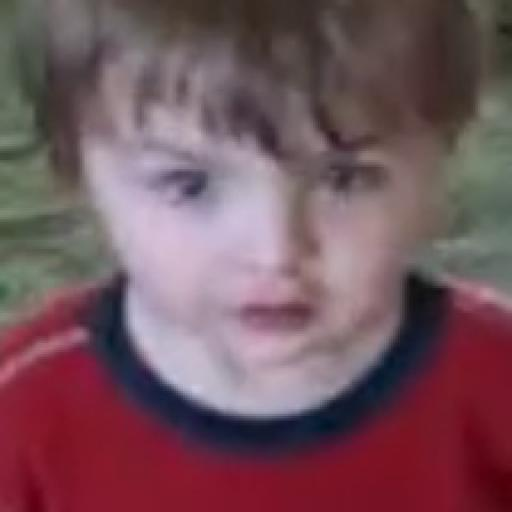Autism: (33, 4, 509, 391)
